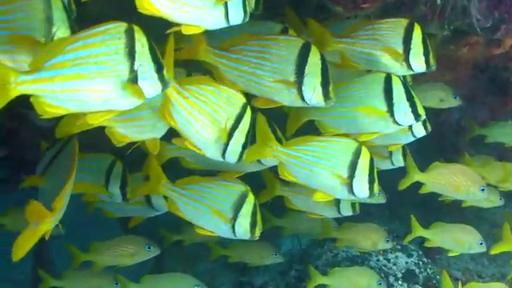Fish: (0, 21, 169, 122), (245, 113, 378, 200), (176, 35, 333, 107), (136, 155, 262, 239), (287, 72, 425, 135), (12, 137, 78, 262), (162, 76, 252, 163), (162, 76, 251, 163), (307, 19, 436, 75), (56, 93, 169, 153), (258, 170, 359, 218), (88, 173, 167, 227), (156, 141, 272, 177), (136, 0, 255, 34), (398, 155, 487, 199), (404, 216, 487, 255), (68, 235, 160, 270), (0, 0, 74, 42), (73, 153, 128, 202), (74, 153, 128, 202), (90, 195, 167, 227), (205, 20, 293, 47), (262, 209, 337, 238), (362, 119, 431, 149), (325, 223, 393, 251), (208, 241, 283, 266), (460, 154, 511, 190), (307, 266, 387, 287), (0, 35, 43, 71), (38, 269, 123, 287), (114, 272, 207, 287), (159, 225, 219, 247), (412, 82, 462, 108), (473, 121, 511, 147), (367, 146, 407, 170), (462, 186, 504, 207), (489, 222, 511, 254), (0, 208, 28, 231), (0, 208, 27, 231), (355, 187, 387, 203), (441, 270, 455, 287), (463, 282, 509, 287)
